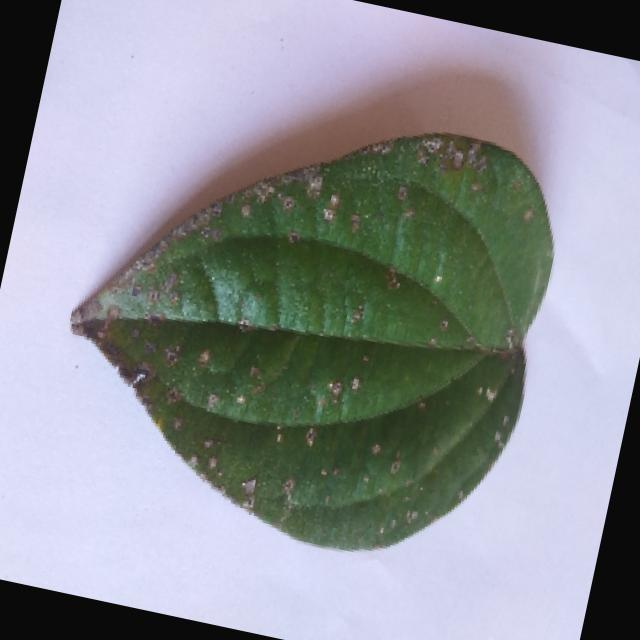pollu-disease: (21, 49, 606, 596)
